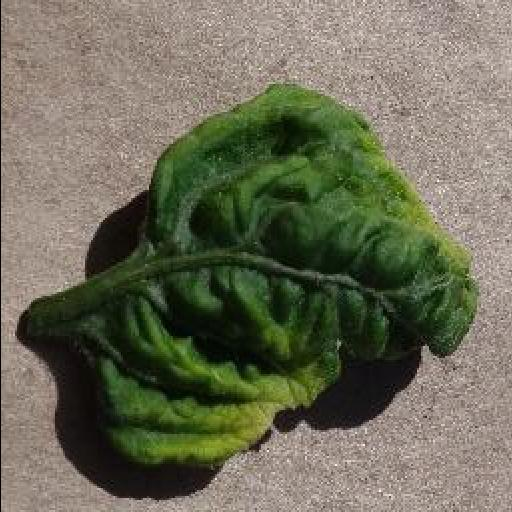disease_tomato: (56, 88, 478, 470)
